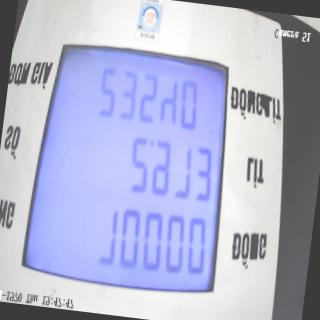screen: (14, 30, 248, 318)
